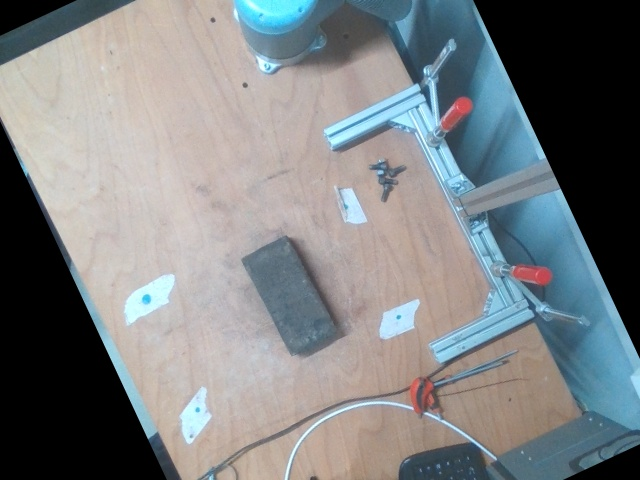brick: (242, 236, 337, 357)
